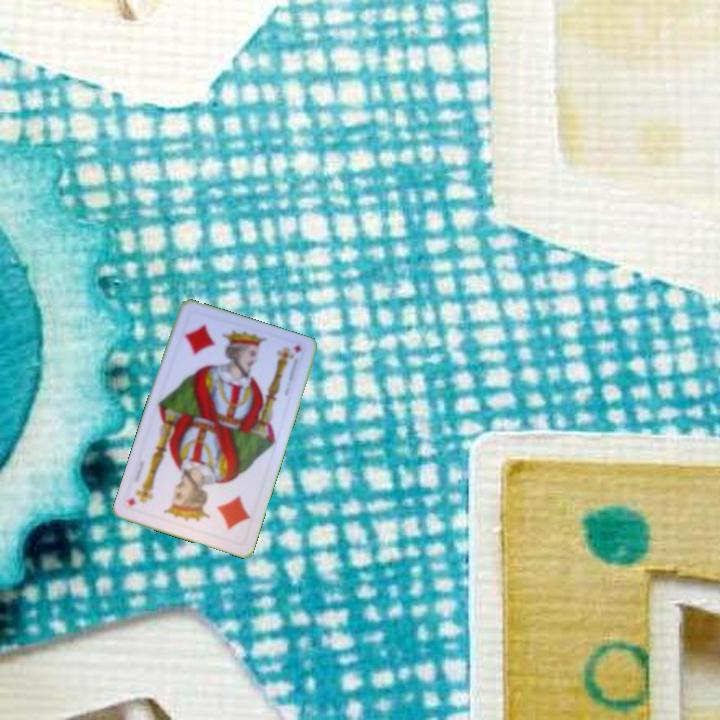d_k.png: (169, 308, 249, 382), (181, 473, 261, 547)
